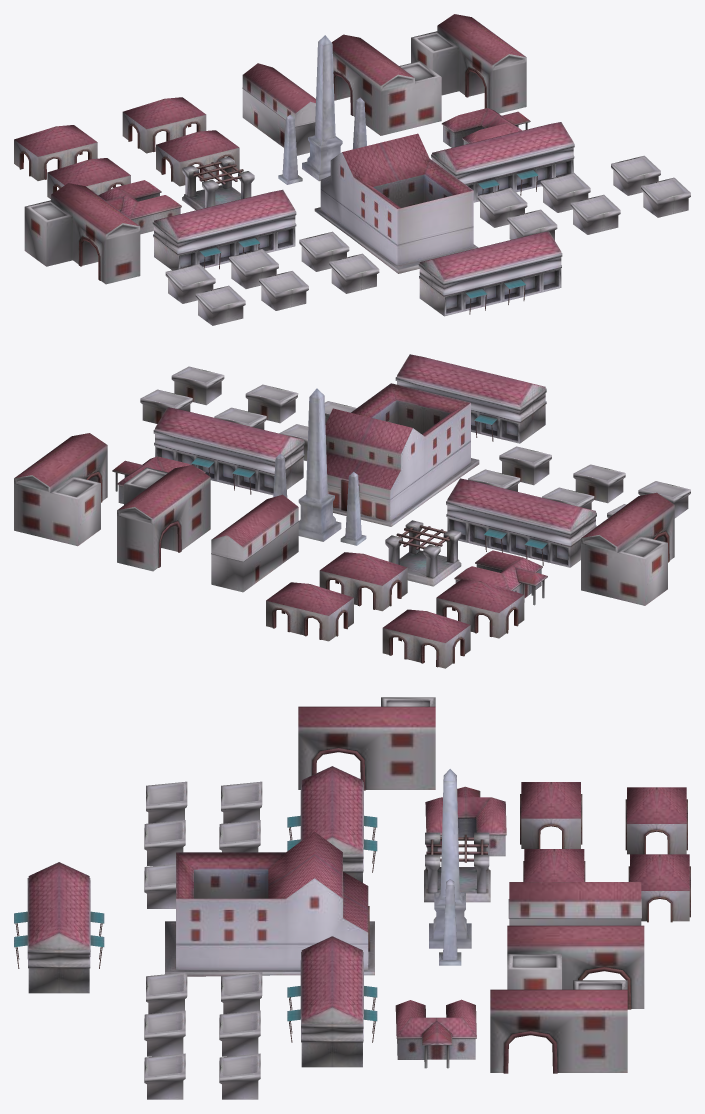
File: city_roman_1.glb
3 renders of one model, top to bottom at view 1: azimuth 30°, elevation 25°; view 2: azimuth 150°, elevation 25°; view 3: azimuth 270°, elevation 25°, orthographic. The views are drawn at different scales.
Parts seen in each view (by area): view 1: low..015, low..031, low.049, low..013, low.051, low.053, low..016, Cube.001, low.050, low..032, low..033, low..018 (+16 smaller); view 2: low..015, low..013, low.053, low.049, low..016, low.051, low..031, low.050, Cube.001, low..032, low..033, low..030 (+13 smaller); view 3: low..015, low.053, low.049, low..031, low..016, low.051, low.050, low..013, Cube.001, low.052, low..033, low..030 (+15 smaller).
Boxes of the visible parts, <box> form: low..015: <box>314,133,478,273</box>; low..031: <box>418,231,562,316</box>; low.049: <box>24,183,140,284</box>; low..013: <box>152,189,296,270</box>; low.051: <box>332,34,441,135</box>; low.053: <box>411,14,526,113</box>; low..016: <box>431,122,574,202</box>; Cube.001: <box>278,35,366,184</box>; low.050: <box>242,63,315,155</box>; low..032: <box>122,97,206,153</box>; low..033: <box>14,125,97,180</box>; low..018: <box>156,130,239,186</box>; low..015: <box>325,383,479,526</box>; low..013: <box>446,478,596,567</box>; low.053: <box>14,433,107,546</box>; low.049: <box>581,492,674,605</box>; low..016: <box>153,407,304,495</box>; low.051: <box>117,465,210,571</box>; low..031: <box>395,354,546,443</box>; low.050: <box>211,494,298,592</box>; Cube.001: <box>273,388,366,545</box>; low..032: <box>266,582,353,641</box>; low..033: <box>382,609,470,668</box>; low..030: <box>436,579,524,638</box>; low..015: <box>165,831,374,976</box>; low.053: <box>490,980,627,1073</box>; low.049: <box>298,697,435,790</box>; low..031: <box>14,862,104,993</box>; low..016: <box>287,936,377,1067</box>; low.051: <box>507,925,644,1009</box>; low.050: <box>508,882,641,925</box>; low..013: <box>287,766,377,882</box>; Cube.001: <box>429,769,471,965</box>; low.052: <box>395,999,476,1068</box>; low..033: <box>625,787,687,854</box>; low..030: <box>520,782,582,848</box>.
Bounding box in the file's own units: 21.88 × 5.58 × 18.62.
Materials: 4 (4 with a texture image).
